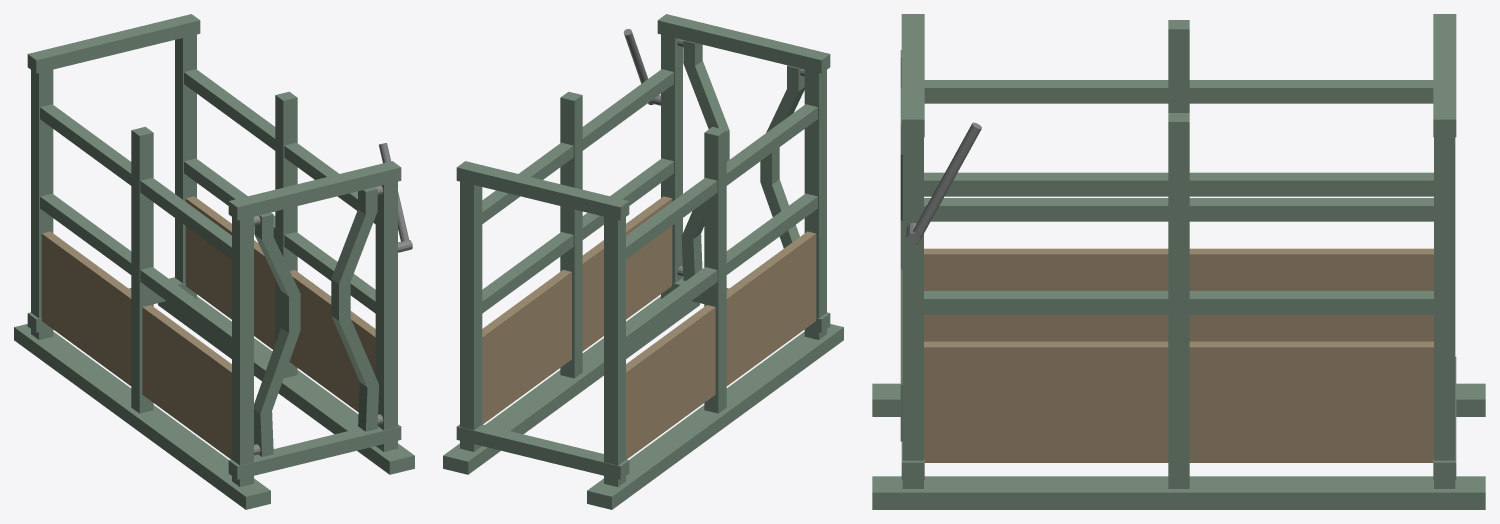
3 views of the same model, side by side, from view 1: azimuth 30°, elevation 25°; view 2: azimuth 150°, elevation 25°; view 3: azimuth 270°, elevation 25° (orthographic). The views are drawn at different scales.
Parts seen in each view (by area): view 1: WholeLowerKickBoard1_2, WholeLowerKickBoard1_1, WholeLongGroundSkid1, WholeLowerKickBoard2_1, WholePortalPost1_1, WholePortalPost2_1, WholeLowerKickBoard2_2, WholePortalPost1_2, WholeLongGroundSkid2, WholeWaistedNeckBarLeaf2, WholeWaistedNeckBarLeaf1, WholeUpperSideRail1_0.86 (+11 smaller); view 2: WholeLowerKickBoard1_1, WholeLowerKickBoard1_2, WholeLowerKickBoard2_2, WholeLongGroundSkid1, WholePortalPost2_3, WholePortalPost1_3, WholeLowerKickBoard2_1, WholeLongGroundSkid2, WholePortalPost1_2, WholePortalPost2_2, WholeUpperSideRail1_0.86, WholeUpperSideRail1_1.37 (+11 smaller); view 3: WholeLowerKickBoard2_1, WholeLowerKickBoard2_2, WholeLongGroundSkid2, WholeLowerKickBoard1_1, WholeLowerKickBoard1_2, WholeUpperSideRail2_1.37, WholeUpperSideRail1_1.37, WholeUpperSideRail2_0.86, WholeUpperSideRail1_0.86, WholePortalPost2_2, WholePortalPost2_3, WholePortalPost2_1 (+7 smaller).
Part boxes in pixels (x1=…): WholeLowerKickBoard1_2: x1=41, y1=231, x2=131, y2=385; WholeLowerKickBoard1_1: x1=142, y1=305, x2=231, y2=459; WholeLongGroundSkid1: x1=14, y1=324, x2=270, y2=509; WholeLowerKickBoard2_1: x1=289, y1=270, x2=375, y2=412; WholePortalPost1_1: x1=232, y1=216, x2=253, y2=486; WholePortalPost2_1: x1=375, y1=181, x2=397, y2=451; WholeLowerKickBoard2_2: x1=185, y1=196, x2=275, y2=349; WholePortalPost1_2: x1=131, y1=126, x2=153, y2=413; WholeLongGroundSkid2: x1=158, y1=296, x2=414, y2=474; WholeWaistedNeckBarLeaf2: x1=331, y1=187, x2=378, y2=431; WholeWaistedNeckBarLeaf1: x1=254, y1=212, x2=300, y2=456; WholeUpperSideRail1_0.86: x1=40, y1=193, x2=231, y2=348; WholeLowerKickBoard1_1: x1=726, y1=231, x2=816, y2=385; WholeLowerKickBoard1_2: x1=626, y1=305, x2=715, y2=459; WholeLowerKickBoard2_2: x1=482, y1=270, x2=571, y2=424; WholeLongGroundSkid1: x1=587, y1=324, x2=843, y2=509; WholePortalPost2_3: x1=460, y1=181, x2=482, y2=451; WholePortalPost1_3: x1=604, y1=216, x2=625, y2=486; WholeLowerKickBoard2_1: x1=582, y1=196, x2=672, y2=350; WholeLongGroundSkid2: x1=443, y1=296, x2=699, y2=474; WholePortalPost1_2: x1=704, y1=126, x2=726, y2=413; WholePortalPost2_2: x1=560, y1=91, x2=582, y2=378; WholeUpperSideRail1_0.86: x1=626, y1=193, x2=817, y2=348; WholeUpperSideRail1_1.37: x1=626, y1=104, x2=817, y2=259; WholeLowerKickBoard2_1: x1=924, y1=341, x2=1168, y2=462; WholeLowerKickBoard2_2: x1=1189, y1=341, x2=1433, y2=462; WholeLongGroundSkid2: x1=872, y1=476, x2=1485, y2=509; WholeLowerKickBoard1_1: x1=924, y1=248, x2=1168, y2=341; WholeLowerKickBoard1_2: x1=1189, y1=248, x2=1433, y2=341; WholeUpperSideRail2_1.37: x1=924, y1=172, x2=1433, y2=196; WholeUpperSideRail1_1.37: x1=924, y1=80, x2=1433, y2=103; WholeUpperSideRail2_0.86: x1=924, y1=291, x2=1433, y2=314; WholeUpperSideRail1_0.86: x1=924, y1=198, x2=1433, y2=221; WholePortalPost2_2: x1=1168, y1=113, x2=1189, y2=488; WholePortalPost2_3: x1=1434, y1=137, x2=1455, y2=488; WholePortalPost2_1: x1=902, y1=137, x2=923, y2=488.
Size of the model in its own units: 1.08 by 1.69 by 2.4.
